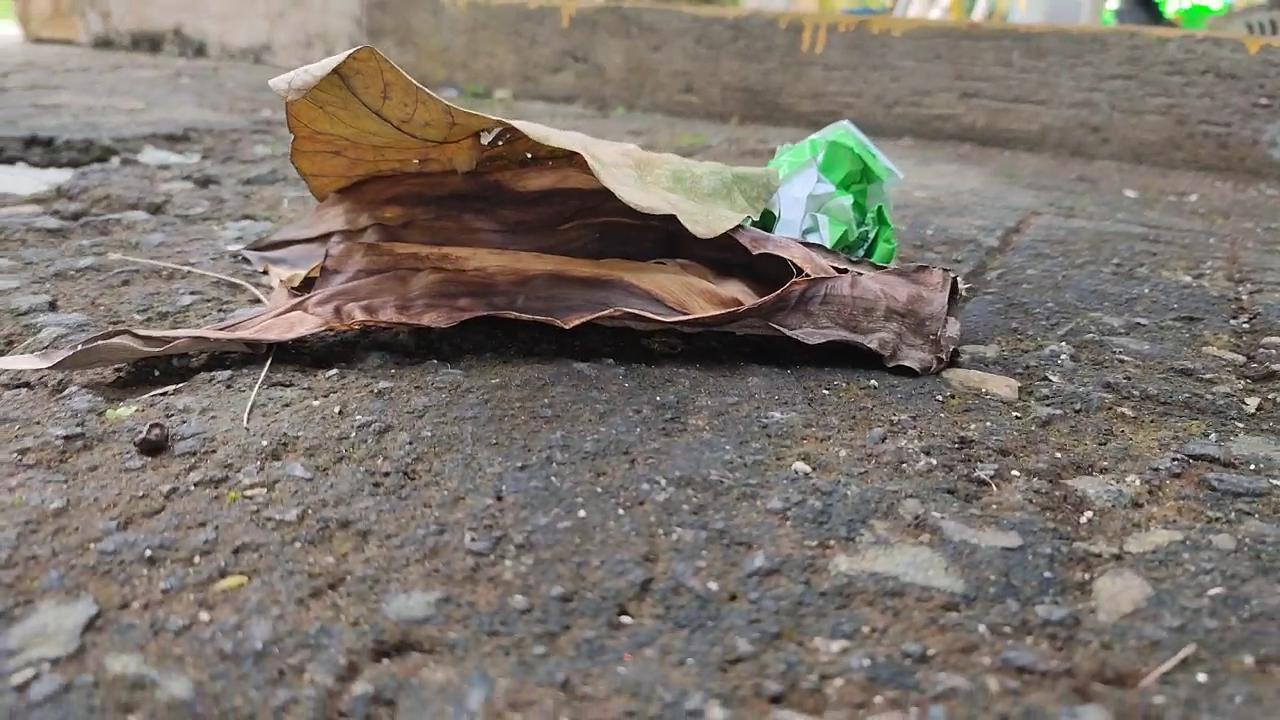Paper: (766, 115, 906, 273)
